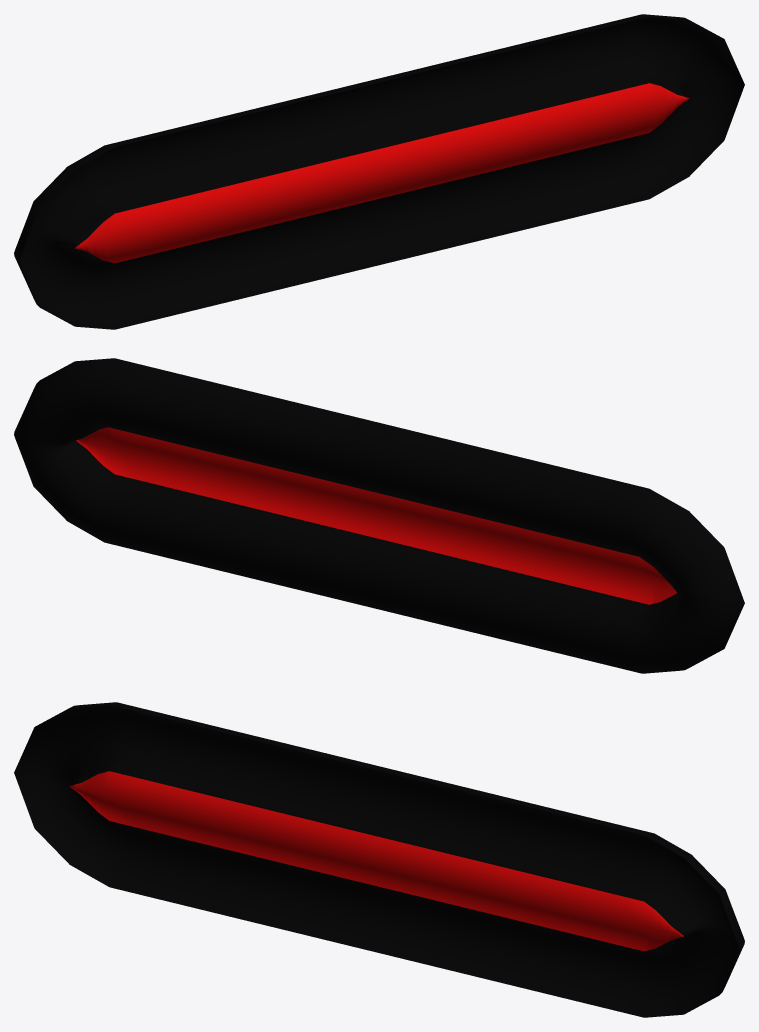
File: SM_Mouth.fbx
3 renders of one model, top to bottom at view 1: azimuth 30°, elevation 25°; view 2: azimuth 150°, elevation 25°; view 3: azimuth 330°, elevation 25°, orthographic.
Parts seen in each view (by area): view 1: Mouth; view 2: Mouth; view 3: Mouth.
Part boxes in pixels (left/top/right/bottom): Mouth: left=14, top=14, right=744, bottom=329; Mouth: left=14, top=358, right=744, bottom=673; Mouth: left=14, top=702, right=744, bottom=1017.
Size of the model in its own units: 1 by 22.91 by 5.5.
